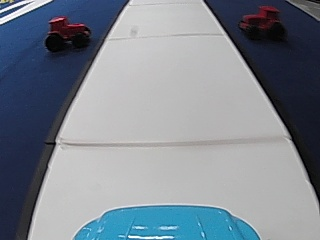tractor: (42, 13, 92, 51), (238, 4, 287, 41)
